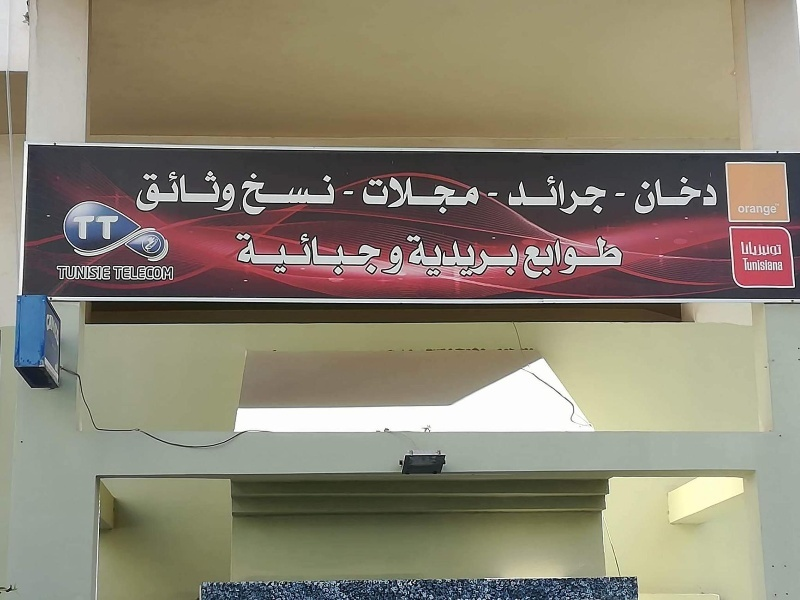text: (529, 234, 544, 282), (545, 234, 560, 282), (561, 234, 576, 282), (577, 234, 592, 282), (593, 234, 608, 282), (145, 168, 160, 215), (161, 168, 176, 215), (177, 168, 192, 215), (193, 168, 208, 215), (209, 168, 224, 215), (241, 171, 256, 217), (257, 171, 272, 217), (273, 171, 288, 217), (289, 171, 304, 217), (305, 171, 320, 217), (321, 171, 336, 217), (241, 232, 256, 277), (257, 232, 272, 277), (273, 232, 288, 277), (289, 232, 304, 277), (305, 232, 320, 277), (321, 232, 336, 277), (337, 232, 352, 277), (353, 232, 368, 277), (593, 175, 609, 217), (609, 234, 623, 282), (417, 234, 432, 278), (433, 234, 448, 278), (449, 234, 464, 278), (465, 234, 480, 278), (481, 234, 496, 278), (497, 234, 512, 278), (513, 175, 528, 217), (529, 175, 544, 217), (545, 175, 560, 217), (561, 175, 576, 217), (577, 175, 592, 217), (369, 175, 384, 216), (385, 175, 400, 216), (401, 175, 416, 216), (417, 175, 432, 216), (433, 175, 448, 216), (449, 175, 464, 216), (465, 175, 480, 216), (641, 176, 656, 216), (657, 176, 672, 216), (673, 176, 688, 216), (689, 176, 704, 216), (369, 232, 382, 277), (225, 168, 237, 215), (705, 176, 718, 216), (385, 243, 400, 277), (405, 234, 416, 278), (49, 306, 59, 351), (135, 168, 144, 215), (81, 215, 96, 241), (97, 215, 112, 241), (360, 175, 368, 216), (522, 234, 528, 282), (633, 176, 640, 216), (234, 232, 240, 277), (513, 234, 519, 278), (753, 241, 768, 258), (65, 265, 80, 281), (81, 265, 96, 281), (97, 265, 112, 281), (113, 265, 128, 281), (129, 265, 144, 281), (145, 265, 160, 281), (769, 241, 783, 258), (161, 265, 175, 281), (507, 175, 512, 217), (753, 258, 768, 272), (769, 258, 784, 272), (740, 241, 752, 258), (737, 203, 752, 216), (753, 203, 768, 216), (73, 215, 80, 241), (113, 215, 120, 241), (769, 203, 782, 216), (742, 258, 752, 272), (56, 265, 64, 281), (381, 243, 384, 277), (401, 243, 404, 277), (487, 191, 496, 199), (343, 189, 352, 197), (614, 192, 624, 198), (239, 171, 240, 217), (47, 306, 48, 351), (481, 175, 482, 216), (625, 192, 628, 198), (353, 189, 355, 197), (497, 191, 498, 199)
